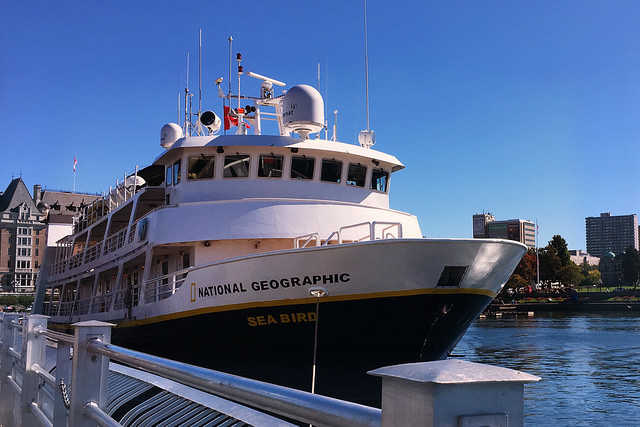cruise_ship: (41, 53, 534, 359)
